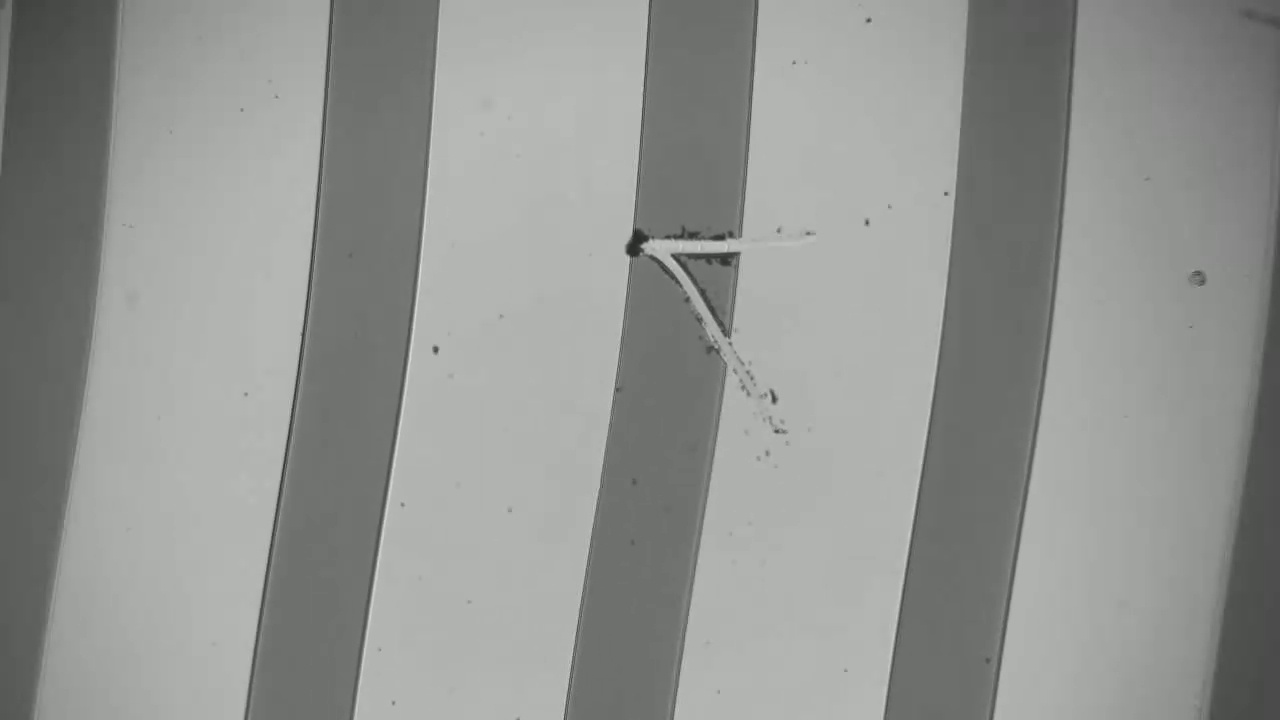Short_circuit: (603, 206, 776, 271)
